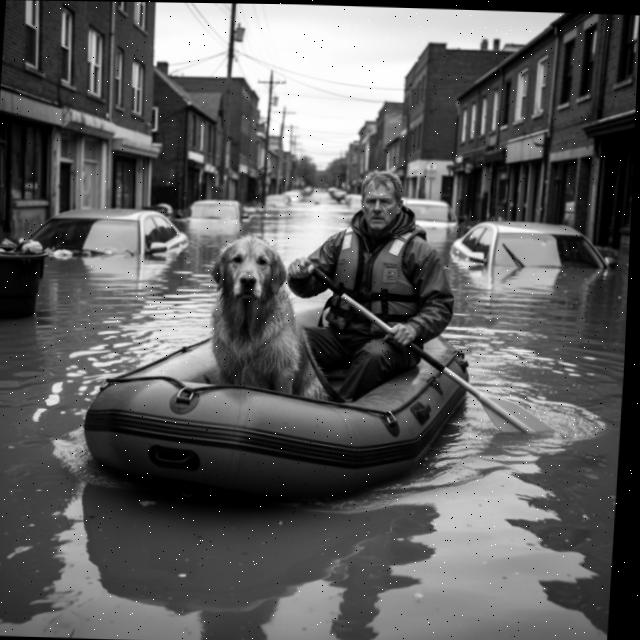dog: (184, 228, 347, 424)
rescuer: (281, 158, 463, 399)
